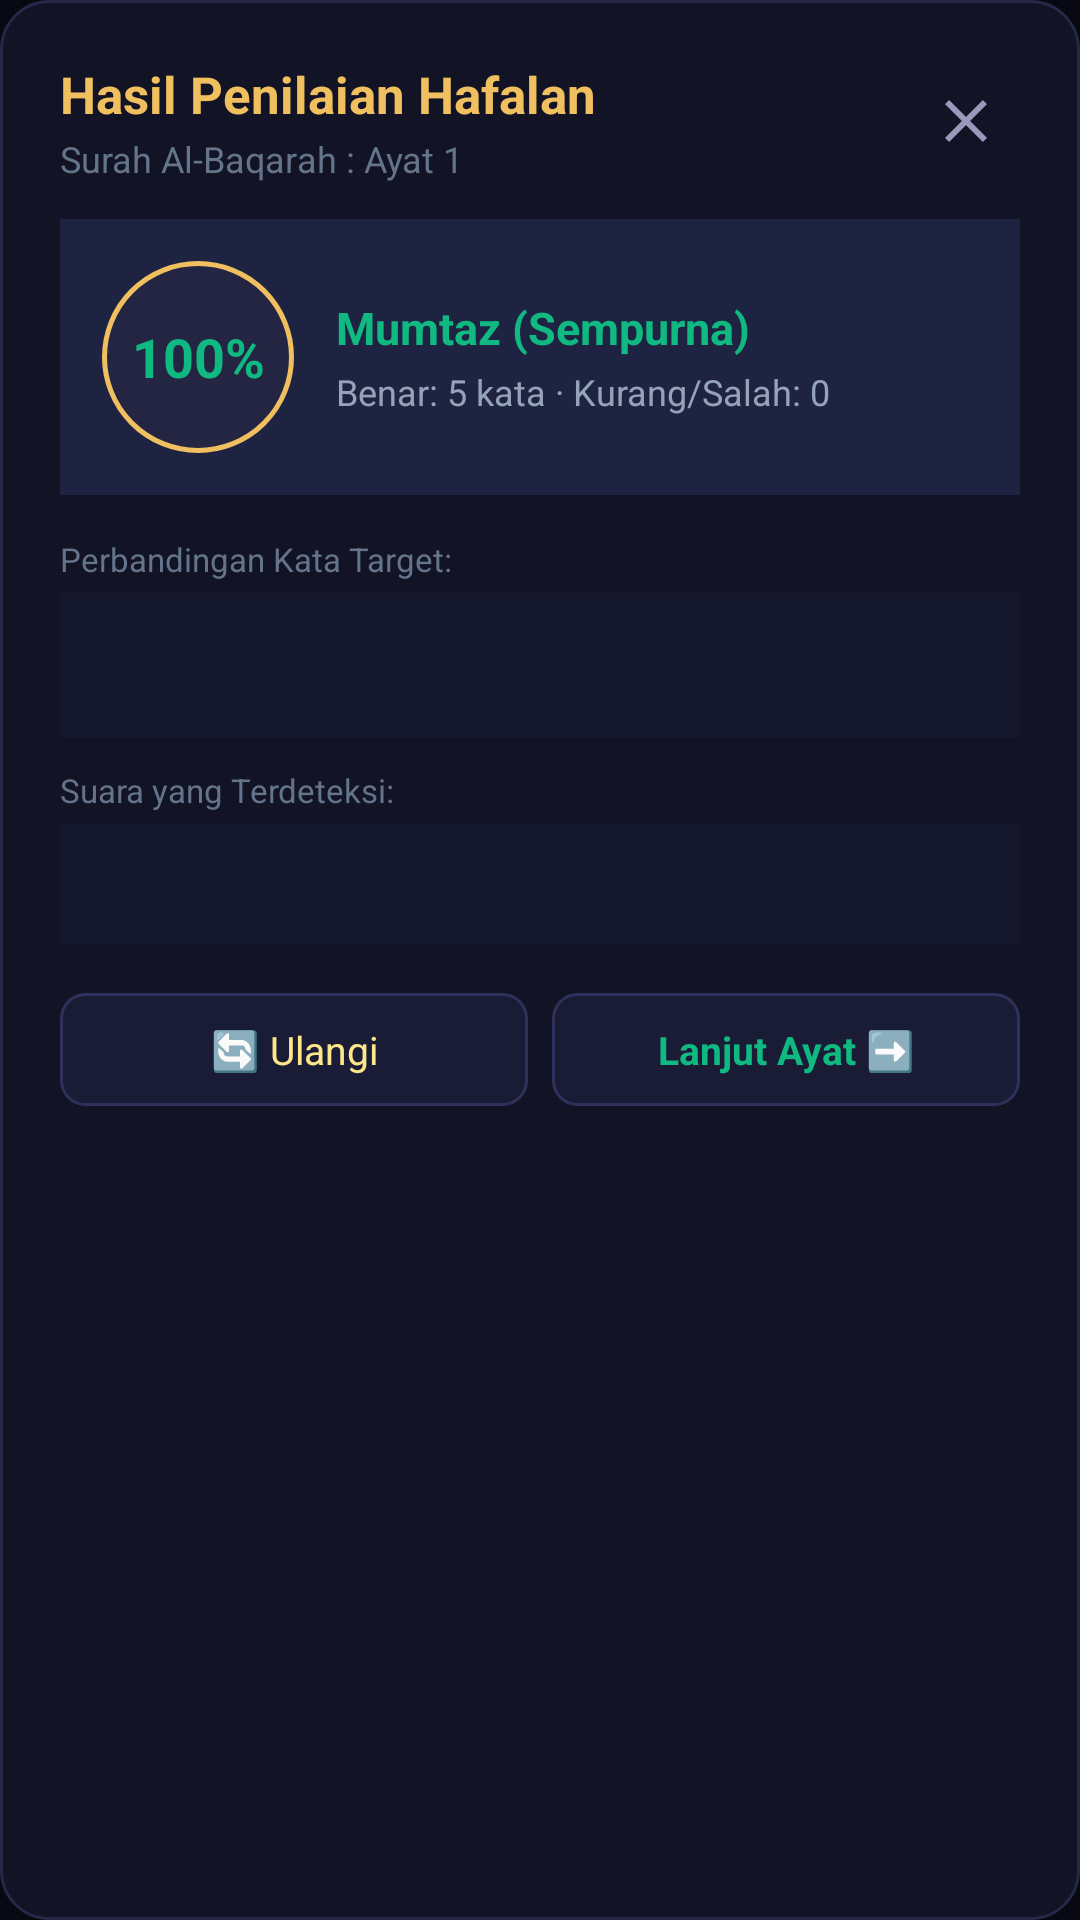

Where to tap for icons on this 1080×1920 app screen, as [x,y]:
Tutup: [966,121]
